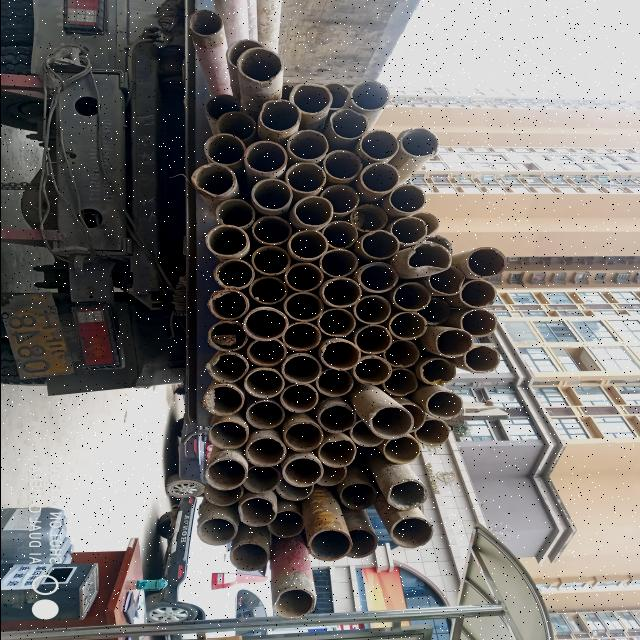pipe: (233, 46, 282, 82), (242, 140, 288, 174), (190, 163, 233, 199), (242, 307, 286, 341), (257, 99, 301, 133), (370, 406, 412, 439), (308, 530, 351, 562), (282, 290, 322, 324), (390, 517, 432, 549), (356, 130, 398, 162), (408, 242, 450, 274), (355, 262, 397, 294), (273, 588, 316, 619), (285, 230, 328, 261), (204, 354, 248, 384), (288, 83, 330, 114), (400, 126, 438, 160), (204, 460, 247, 490), (202, 385, 242, 417), (252, 179, 292, 211), (348, 80, 388, 112), (319, 341, 361, 371), (207, 420, 249, 450), (206, 322, 248, 352), (282, 262, 324, 292), (464, 248, 506, 278), (202, 134, 242, 165), (282, 354, 320, 386), (212, 112, 255, 140), (245, 438, 285, 468), (317, 404, 357, 434), (283, 422, 323, 452), (286, 130, 326, 160), (224, 38, 264, 68), (328, 109, 368, 139), (320, 185, 360, 215), (317, 310, 357, 340), (392, 282, 432, 312), (458, 280, 498, 310), (285, 162, 326, 191), (432, 329, 473, 358), (426, 266, 462, 299), (323, 151, 361, 182), (321, 220, 359, 251), (361, 230, 399, 261), (243, 402, 285, 430), (206, 292, 246, 321), (294, 196, 334, 225), (388, 312, 428, 341), (322, 276, 358, 308), (206, 227, 247, 255), (387, 185, 428, 213), (238, 498, 276, 528), (350, 203, 388, 233), (315, 369, 354, 398), (229, 544, 269, 572), (196, 518, 236, 546), (282, 458, 322, 486), (279, 386, 319, 414), (244, 370, 284, 398), (244, 338, 284, 366), (213, 200, 253, 228), (250, 246, 290, 274), (458, 310, 498, 338), (202, 93, 242, 121), (250, 217, 291, 244), (214, 261, 252, 290), (361, 163, 399, 192), (388, 481, 424, 511), (284, 322, 320, 352), (355, 324, 391, 354), (382, 339, 419, 368), (318, 440, 356, 468), (418, 358, 456, 386), (352, 358, 390, 386), (248, 278, 286, 306), (352, 296, 390, 324), (339, 482, 376, 510), (243, 466, 279, 494), (382, 368, 418, 396), (323, 248, 358, 276), (416, 298, 451, 326), (266, 511, 302, 538), (415, 420, 449, 448), (188, 9, 222, 37), (427, 392, 462, 419), (464, 346, 500, 372), (344, 529, 376, 558), (384, 438, 421, 463), (390, 217, 425, 243), (349, 421, 385, 446), (394, 403, 424, 433), (205, 482, 242, 506), (320, 82, 350, 110), (276, 478, 312, 501), (410, 211, 440, 237), (316, 462, 346, 486)
